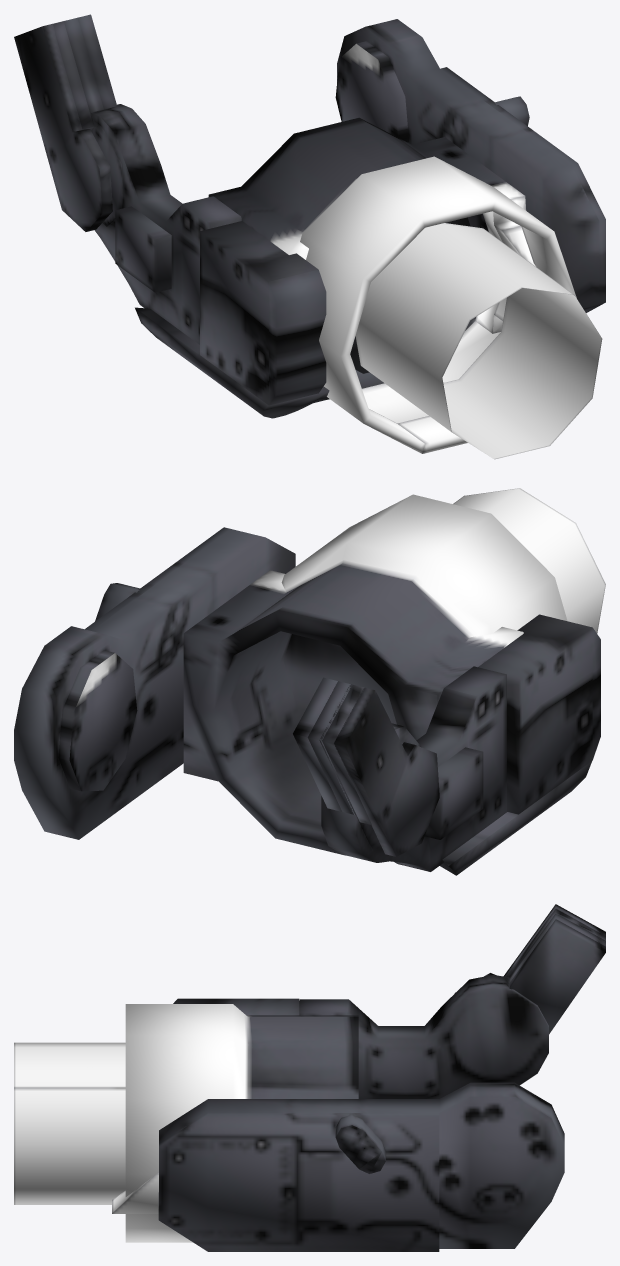
File: r_scap.obj
3 renders of one model, top to bottom at view 1: azimuth 30°, elevation 25°; view 2: azimuth 150°, elevation 25°; view 3: azimuth 270°, elevation 25°, orthographic. The views are drawn at different scales.
Parts seen in each view (by area): view 1: <dummy_root>; view 2: <dummy_root>; view 3: <dummy_root>.
Part boxes in pixels (x1,y1,x2,y2): <dummy_root>: [14, 14, 605, 459]; <dummy_root>: [14, 488, 605, 875]; <dummy_root>: [14, 904, 605, 1251].
Size of the model in its own units: 0.1717 by 0.1279 by 0.2756.
1 material, 1 textured.
